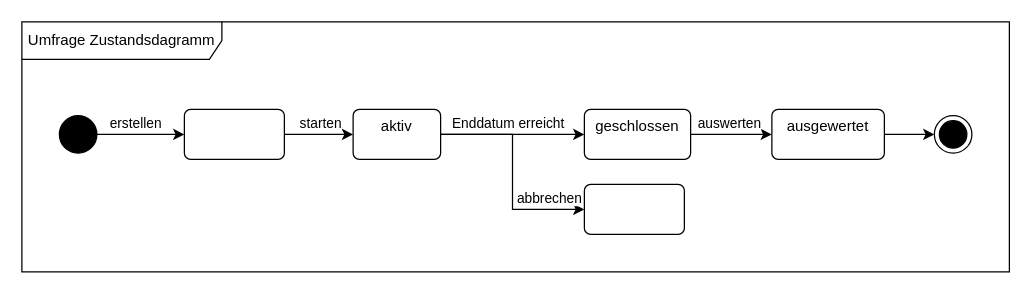
Image size: 1031x294. Some labels were removed from this diagram. Each missing label, with the centre of its shape:
"abgebrochen" belongs at point (633, 208).
"erstellt" belongs at point (233, 133).
